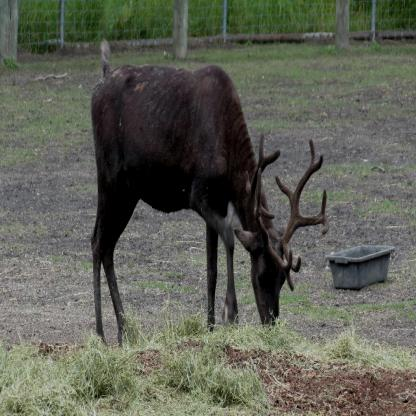Deer: (86, 57, 330, 353)
